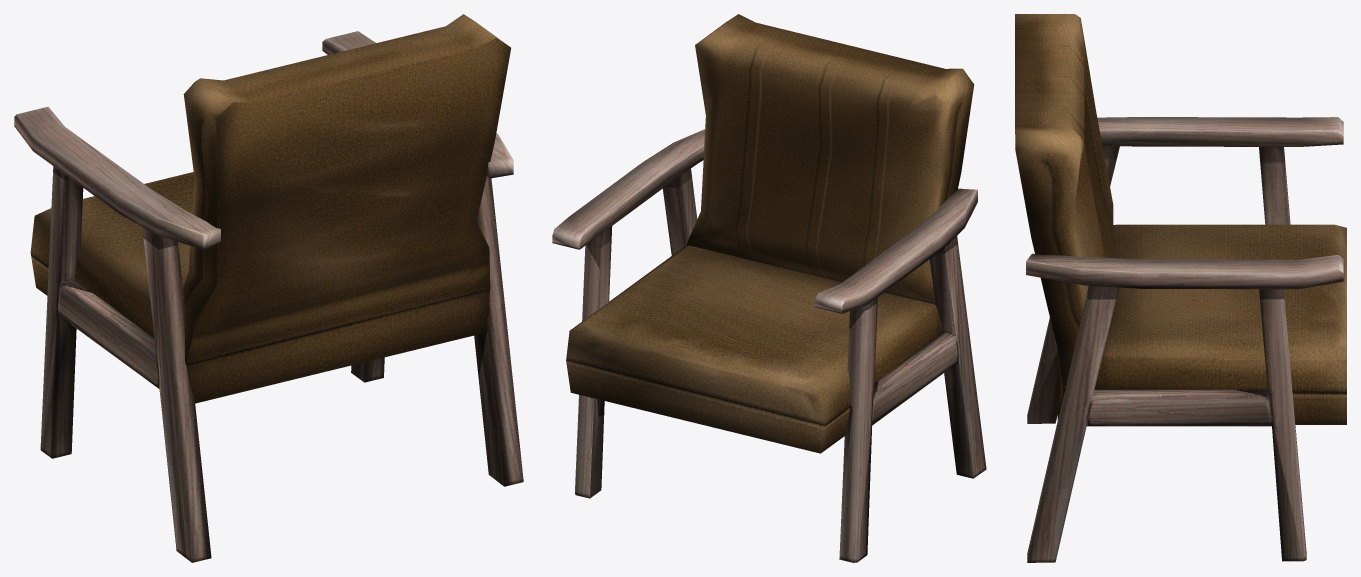
The picture shows the model from 3 angles, left to right: view 1: azimuth 30°, elevation 25°; view 2: azimuth 150°, elevation 25°; view 3: azimuth 270°, elevation 25°; orthographic projection. The views are drawn at different scales.
Parts seen in each view (by area): view 1: Box15; view 2: Box15; view 3: Box15.
Part boxes in pixels (x1,y1,x2,y2): Box15: [14, 14, 523, 562]; Box15: [552, 14, 986, 562]; Box15: [1015, 14, 1346, 562].
Size of the model in its own units: 47.12 by 58.49 by 42.2.
Materials: 1 (1 with a texture image).
